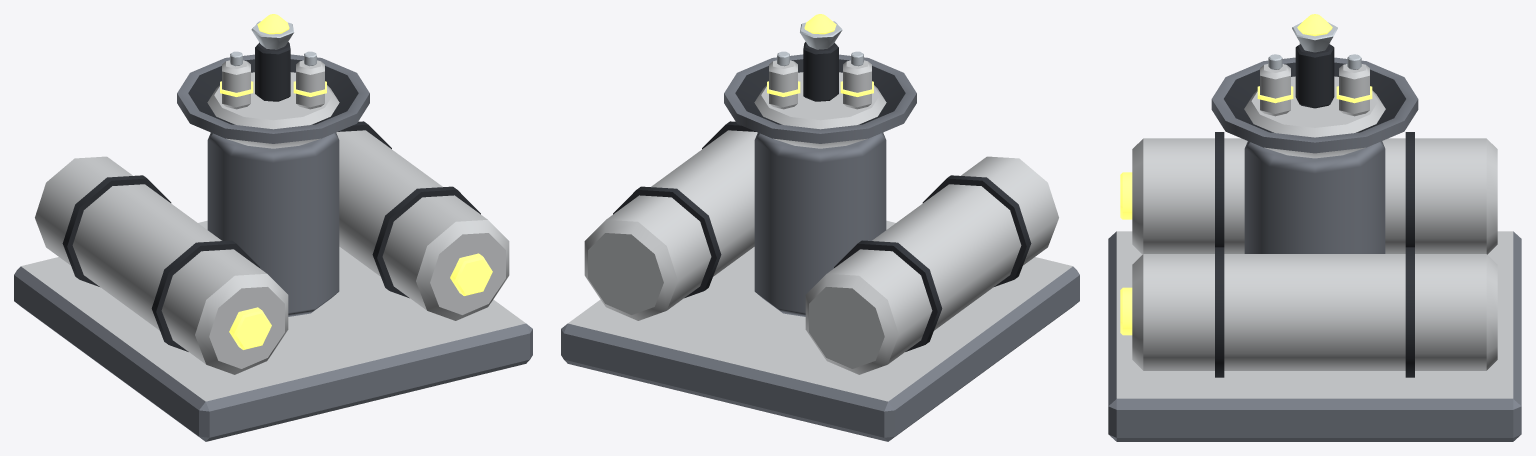
The model's file is R4X_BurnTrapDeployer_LOD1.fbx.
3 renders of one model, left to right at view 1: azimuth 30°, elevation 25°; view 2: azimuth 150°, elevation 25°; view 3: azimuth 270°, elevation 25°, orthographic. The views are drawn at different scales.
Parts seen in each view (by area): view 1: R4X_BurnTrapDeployer_LOD1; view 2: R4X_BurnTrapDeployer_LOD1; view 3: R4X_BurnTrapDeployer_LOD1.
Part boxes in pixels (x1,y1,x2,y2): R4X_BurnTrapDeployer_LOD1: [14, 14, 532, 441]; R4X_BurnTrapDeployer_LOD1: [561, 14, 1079, 441]; R4X_BurnTrapDeployer_LOD1: [1108, 14, 1521, 441].
Bounding box in the file's own units: 0.52 × 0.476 × 0.52.
